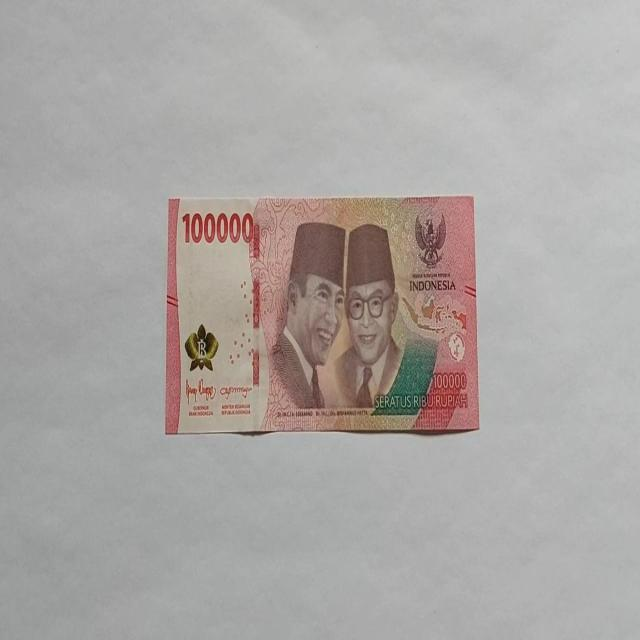Kertas: (165, 194, 480, 436), (181, 209, 255, 245)
